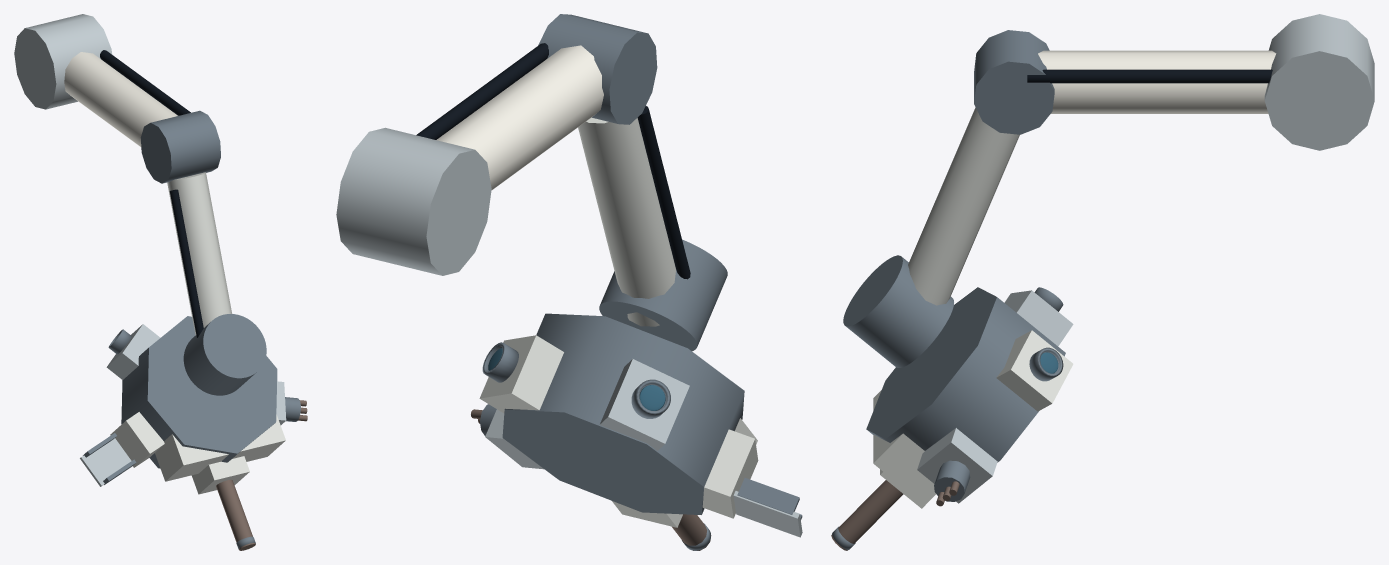
File: curiosity_arm.shoulder_azimuth.shoulder_elevation.glb
3 views of the same model, side by side, from view 1: azimuth 30°, elevation 25°; view 2: azimuth 150°, elevation 25°; view 3: azimuth 270°, elevation 25° (orthographic). The views are drawn at different scales.
Visible parts, largest first — view 1: curiosity_turret.mesh_Machined_steel, curiosity_arm.shoulder_azimuth.shoulder_elevation.elbow.fore (×3), curiosity_arm.shoulder_azimuth.shoulder_elevation.mesh_Satin, curiosity_arm.shoulder_azimuth.shoulder_elevation.mesh_Warm_, curiosity_arm.shoulder_azimuth.shoulder_elevation.elbow.mesh, curiosity_turret.mesh_Pale_thermal_blanket, curiosity_turret.chimra.mesh_Pale_thermal_blanket, curiosity_turret.drill.mesh_Pale_thermal_blanket, curiosity_turret.apxs.mesh_Satin_aluminum, curiosity_turret.chimra.mesh_Satin_aluminum, curiosity_turret.drill.mesh_Heat-stained_alloy, curiosity_arm.shoulder_azimuth.shoulder_elevation.mesh_Shado (+3 smaller); view 2: curiosity_turret.mesh_Machined_steel, curiosity_arm.shoulder_azimuth.shoulder_elevation.elbow.fore (×3), curiosity_arm.shoulder_azimuth.shoulder_elevation.mesh_Satin, curiosity_arm.shoulder_azimuth.shoulder_elevation.mesh_Warm_, curiosity_arm.shoulder_azimuth.shoulder_elevation.elbow.mesh, curiosity_turret.apxs.mesh_Satin_aluminum, curiosity_turret.mahli.mesh_Pale_thermal_blanket, curiosity_turret.chimra.mesh_Pale_thermal_blanket, curiosity_arm.shoulder_azimuth.shoulder_elevation.mesh_Shado, curiosity_turret.chimra.mesh_Satin_aluminum, curiosity_turret.chimra.mesh_Machined_steel, curiosity_turret.drt.mesh_Satin_aluminum (+4 smaller); view 3: curiosity_turret.mesh_Machined_steel, curiosity_arm.shoulder_azimuth.shoulder_elevation.elbow.fore (×2), curiosity_arm.shoulder_azimuth.shoulder_elevation.mesh_Satin, curiosity_arm.shoulder_azimuth.shoulder_elevation.mesh_Warm_, curiosity_arm.shoulder_azimuth.shoulder_elevation.elbow.mesh, curiosity_arm.shoulder_azimuth.shoulder_elevation.mesh_Shado, curiosity_turret.mahli.mesh_Pale_thermal_blanket, curiosity_turret.drt.mesh_Satin_aluminum, curiosity_turret.mesh_Pale_thermal_blanket, curiosity_turret.apxs.mesh_Satin_aluminum, curiosity_turret.drill.mesh_Heat-stained_alloy, curiosity_turret.drt.mesh_Machined_steel.
Boxes of the visible parts, <box> form: curiosity_turret.mesh_Machined_steel: <box>121,316,277,468</box>; curiosity_arm.shoulder_azimuth.shoulder_elevation.elbow.fore (×3): <box>167,172,266,395</box>; curiosity_arm.shoulder_azimuth.shoulder_elevation.mesh_Satin: <box>14,14,112,109</box>; curiosity_arm.shoulder_azimuth.shoulder_elevation.mesh_Warm_: <box>64,52,177,146</box>; curiosity_arm.shoulder_azimuth.shoulder_elevation.elbow.mesh: <box>140,110,220,183</box>; curiosity_turret.mesh_Pale_thermal_blanket: <box>155,414,285,481</box>; curiosity_turret.chimra.mesh_Pale_thermal_blanket: <box>110,412,164,467</box>; curiosity_turret.drill.mesh_Pale_thermal_blanket: <box>191,456,249,494</box>; curiosity_turret.apxs.mesh_Satin_aluminum: <box>106,324,160,379</box>; curiosity_turret.chimra.mesh_Satin_aluminum: <box>80,438,131,486</box>; curiosity_turret.drill.mesh_Heat-stained_alloy: <box>216,479,255,550</box>; curiosity_arm.shoulder_azimuth.shoulder_elevation.mesh_Shado: <box>100,50,190,115</box>; curiosity_turret.mesh_Machined_steel: <box>502,313,744,514</box>; curiosity_arm.shoulder_azimuth.shoulder_elevation.elbow.fore (×3): <box>578,106,727,351</box>; curiosity_arm.shoulder_azimuth.shoulder_elevation.mesh_Satin: <box>336,127,491,275</box>; curiosity_arm.shoulder_azimuth.shoulder_elevation.mesh_Warm_: <box>436,45,603,190</box>; curiosity_arm.shoulder_azimuth.shoulder_elevation.elbow.mesh: <box>538,14,657,124</box>; curiosity_turret.apxs.mesh_Satin_aluminum: <box>599,359,689,450</box>; curiosity_turret.mahli.mesh_Pale_thermal_blanket: <box>479,335,563,413</box>; curiosity_turret.chimra.mesh_Pale_thermal_blanket: <box>702,429,758,518</box>; curiosity_arm.shoulder_azimuth.shoulder_elevation.mesh_Shado: <box>416,43,548,139</box>; curiosity_turret.chimra.mesh_Satin_aluminum: <box>733,491,802,537</box>; curiosity_turret.chimra.mesh_Machined_steel: <box>737,478,802,519</box>; curiosity_turret.drt.mesh_Satin_aluminum: <box>485,409,543,469</box>; curiosity_turret.mesh_Machined_steel: <box>866,287,1065,462</box>; curiosity_arm.shoulder_azimuth.shoulder_elevation.elbow.fore (×2): <box>843,107,1019,367</box>; curiosity_arm.shoulder_azimuth.shoulder_elevation.mesh_Satin: <box>1264,14,1374,150</box>; curiosity_arm.shoulder_azimuth.shoulder_elevation.mesh_Warm_: <box>1038,50,1276,113</box>; curiosity_arm.shoulder_azimuth.shoulder_elevation.elbow.mesh: <box>974,30,1054,134</box>; curiosity_arm.shoulder_azimuth.shoulder_elevation.mesh_Shado: <box>1027,69,1272,83</box>; curiosity_turret.mahli.mesh_Pale_thermal_blanket: <box>996,330,1073,411</box>; curiosity_turret.drt.mesh_Satin_aluminum: <box>917,428,997,503</box>; curiosity_turret.mesh_Pale_thermal_blanket: <box>873,390,934,502</box>; curiosity_turret.apxs.mesh_Satin_aluminum: <box>1004,290,1073,346</box>; curiosity_turret.drill.mesh_Heat-stained_alloy: <box>831,480,903,550</box>; curiosity_turret.drt.mesh_Machined_steel: <box>934,460,970,501</box>.
Bounding box in the file's own units: 0.7668 × 1.33 × 1.26.
